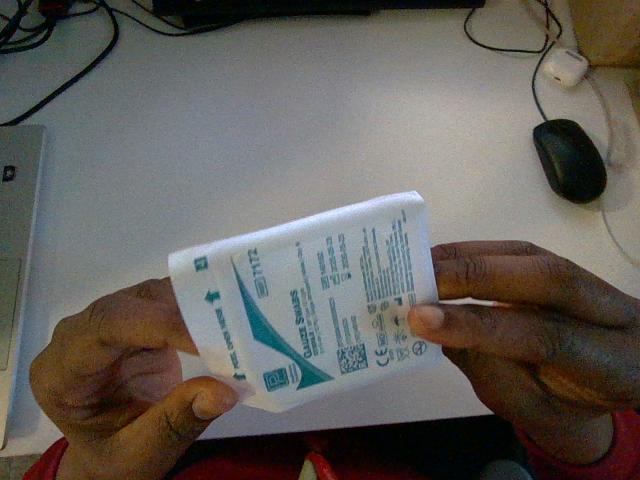gauze: (169, 192, 440, 411)
